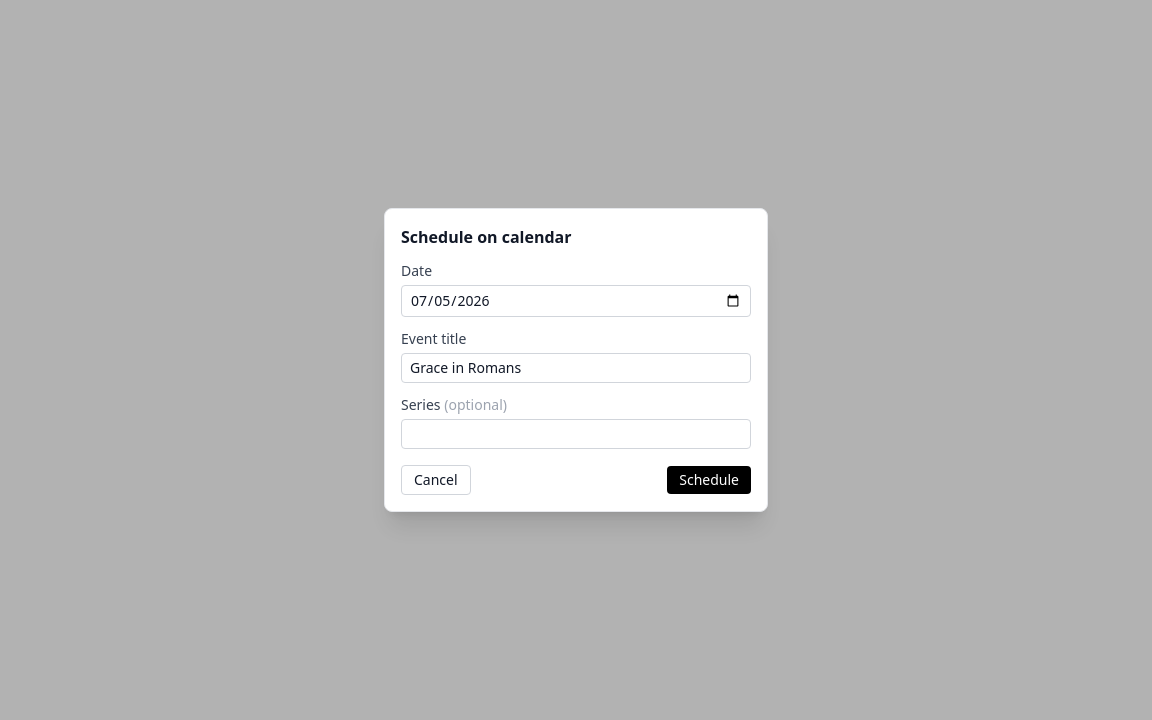
Test: ScheduleSermonPopover › renders a returned error inline and re-enables the button
Click the button "Schedule": (709, 480) left=667, top=466, right=751, bottom=494
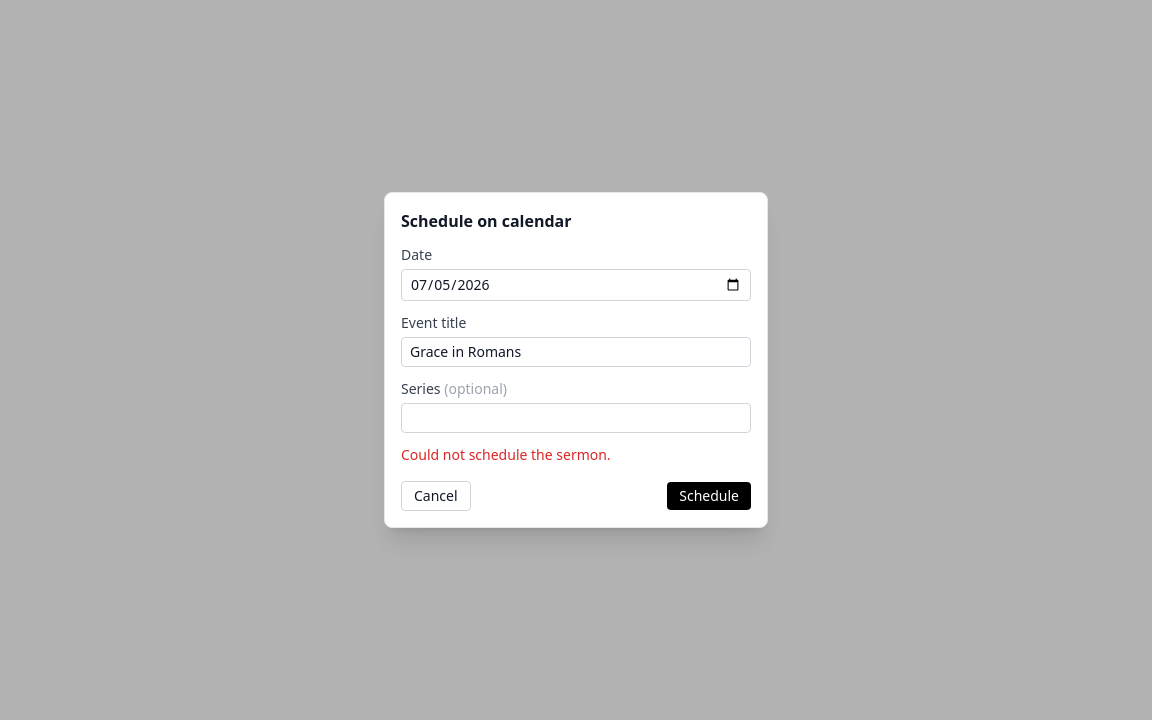
Expected: the button "Schedule" is enabled, left=667, top=482, right=751, bottom=510
Expected: the message reads "Could not schedule the sermon.", left=401, top=445, right=611, bottom=464
